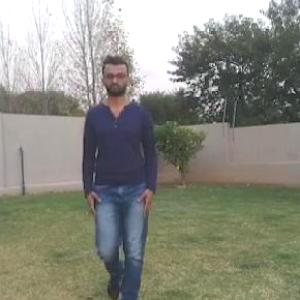follow: (83, 55, 156, 299)
